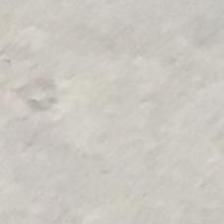Non_Crack: (67, 27, 218, 224)
